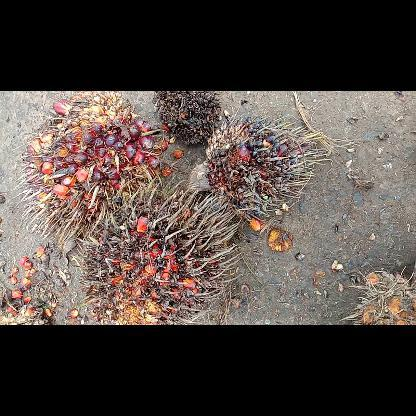TBS abnormal: (186, 114, 336, 228), (150, 91, 224, 149)
TBS masak: (13, 90, 168, 248)
Terlalu masak: (78, 176, 244, 324)
